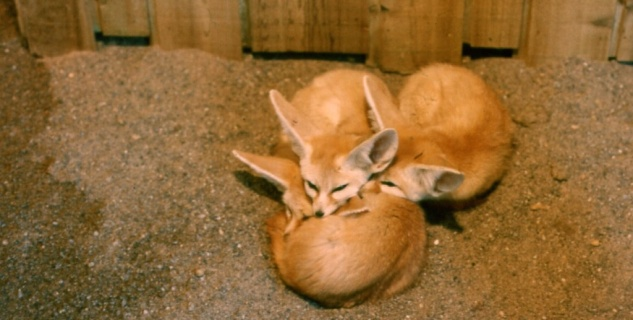Fox: (230, 147, 429, 310), (358, 58, 518, 204), (267, 66, 394, 217)
